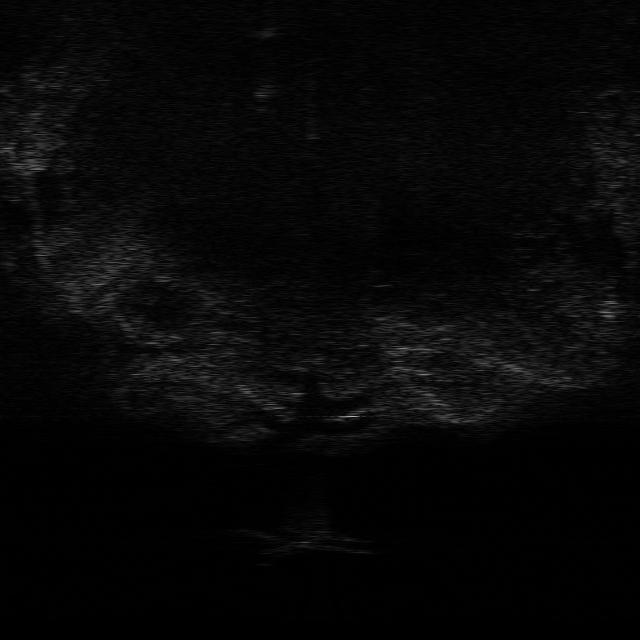plane: (242, 527, 376, 557)
